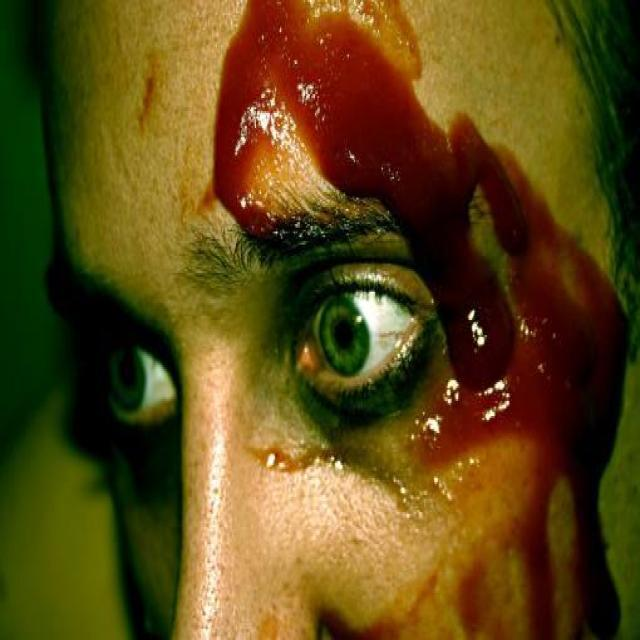flood: (217, 1, 640, 501)
